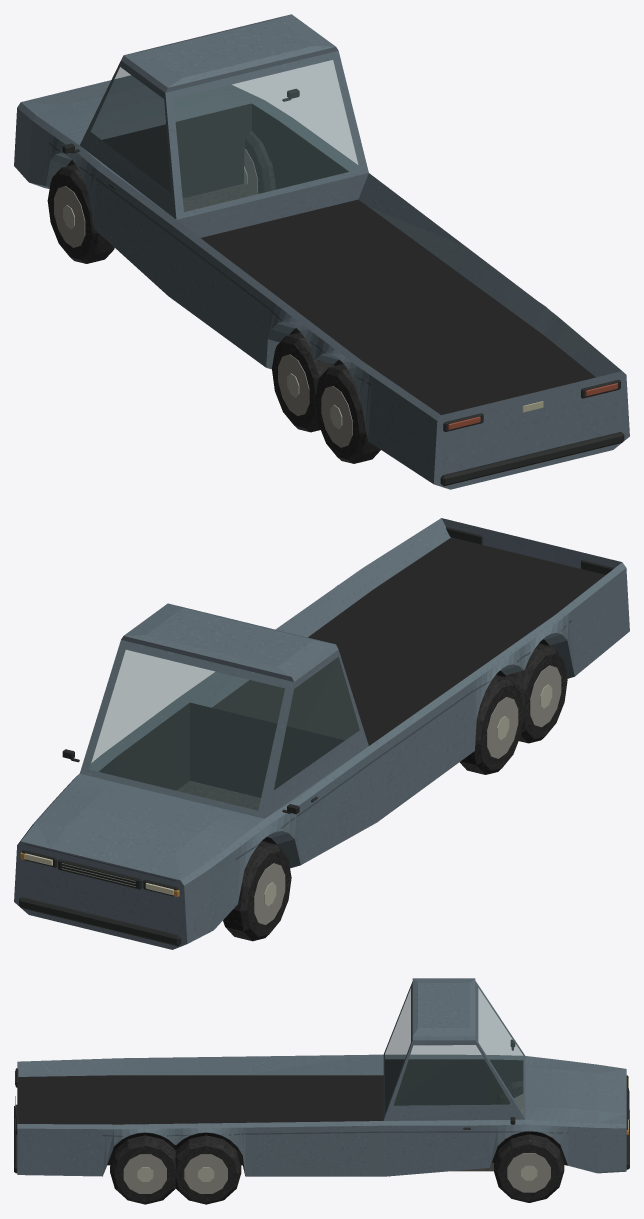
The model's file is vehicle_flatbed.glb.
3 renders of one model, top to bottom at view 1: azimuth 30°, elevation 25°; view 2: azimuth 150°, elevation 25°; view 3: azimuth 270°, elevation 25°, orthographic. The views are drawn at different scales.
Visible parts, largest first — view 1: closed_body, glazing, roof_body; view 2: closed_body, glazing, roof_body; view 3: closed_body, glazing, roof_body.
Part boxes in pixels (x1,y1,x2,y2): closed_body: (14, 50, 629, 489); glazing: (91, 60, 359, 211); roof_body: (121, 14, 338, 92); closed_body: (14, 518, 629, 949); glazing: (89, 650, 359, 810); roof_body: (121, 603, 338, 681); closed_body: (14, 981, 629, 1204); glazing: (385, 988, 523, 1112); roof_body: (412, 978, 475, 1040).
Bounding box in the file's own units: 2.61 × 2.48 × 8.39.
Materials: 2 (2 with a texture image).
